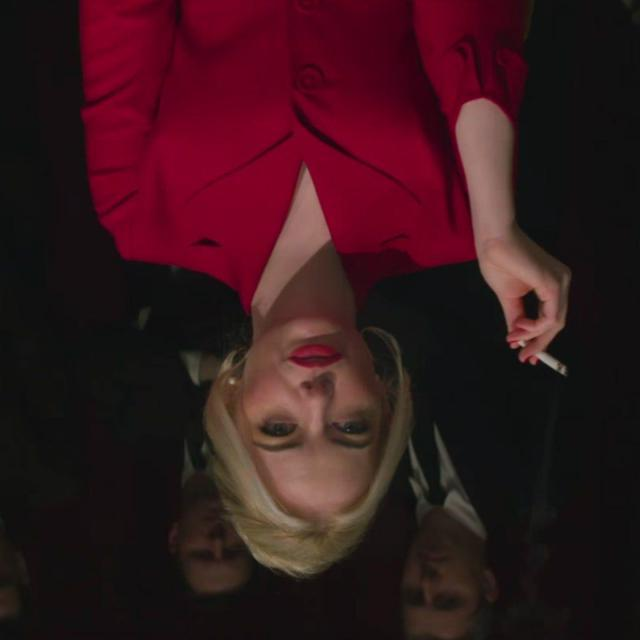cigarette: (514, 329, 596, 398)
